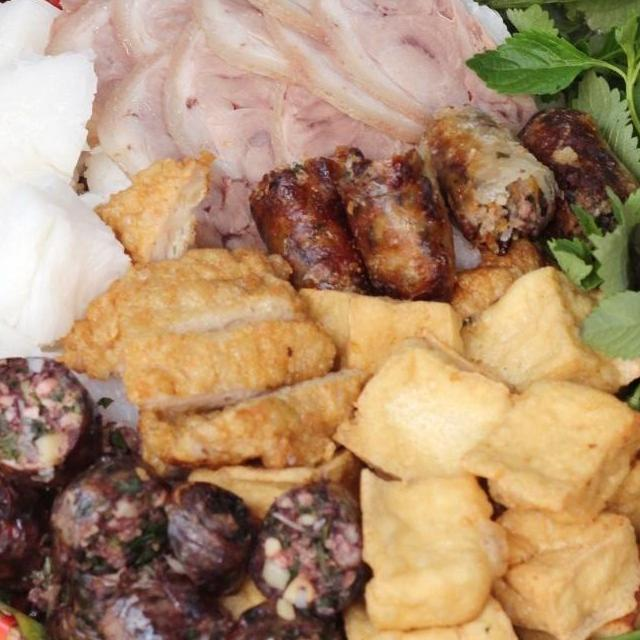bun: (0, 0, 144, 395)
bun dau: (0, 0, 640, 640)
cha com: (49, 226, 358, 504), (86, 146, 220, 272)
cha gio: (233, 144, 468, 318), (412, 96, 570, 260), (511, 91, 640, 249)
dau hu: (300, 252, 640, 640)
doi sun: (0, 409, 375, 640), (0, 345, 114, 499)
thit heo: (43, 0, 514, 208)
